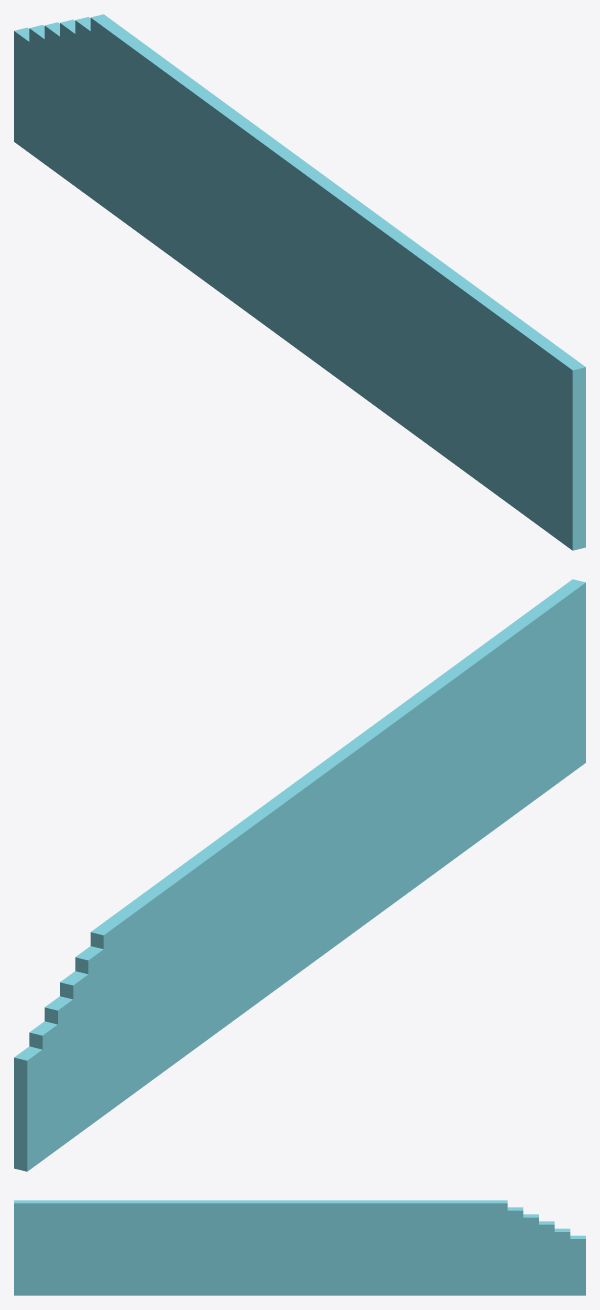
File: House-0.obj
3 views of the same model, one above another, from view 1: azimuth 30°, elevation 25°; view 2: azimuth 150°, elevation 25°; view 3: azimuth 270°, elevation 25° (orthographic). The views are drawn at different scales.
Bounding box in the file's own units: 0.1 × 1.3 × 7.3.
1 material, 1 textured.
